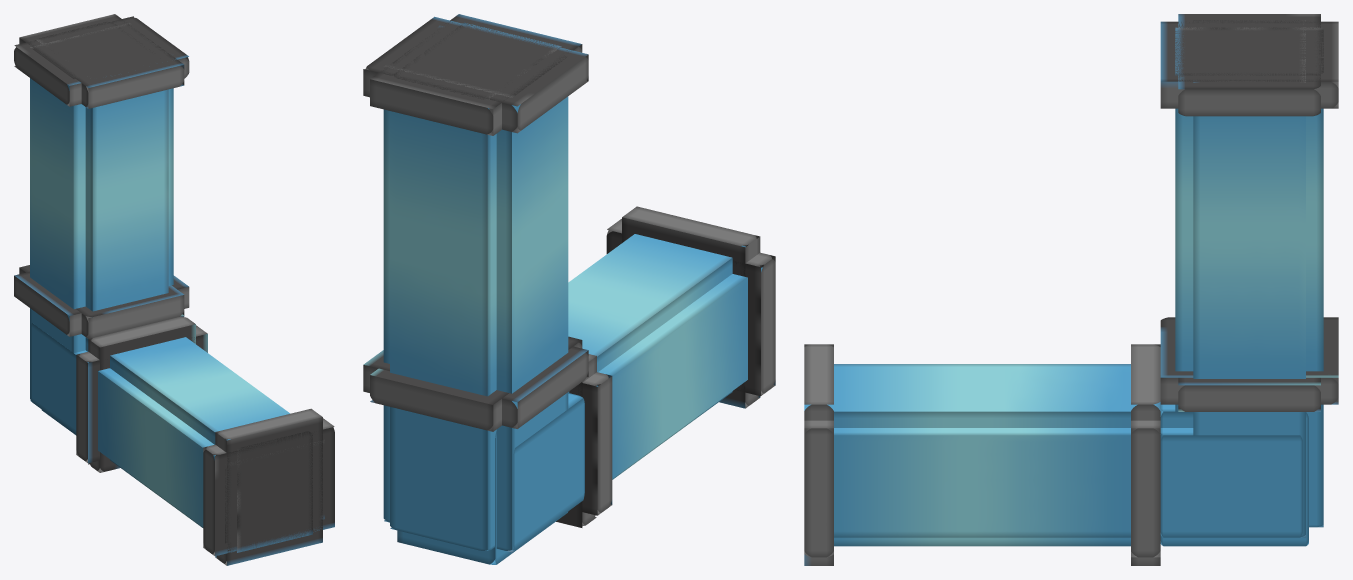
Rendered from Tube_Corner.fbx.
3 views of the same model, side by side, from view 1: azimuth 30°, elevation 25°; view 2: azimuth 150°, elevation 25°; view 3: azimuth 270°, elevation 25° (orthographic). The views are drawn at different scales.
Parts seen in each view (by area): view 1: cube_1, cube_10, cube, cube_11, cube_5, cube_6, cube_7, cube_4, cube_12, cube_3, cube_8, cube_9 (+2 smaller); view 2: cube_1, cube, cube_11, cube_10, cube_14, cube_4, cube_5, cube_12, cube_3, cube_6, cube_7, cube_9 (+4 smaller); view 3: cube, cube_11, cube_10, cube_1, cube_12, cube_4, cube_5, cube_2, cube_9, cube_7, cube_3, cube_13 (+4 smaller).
Part boxes in pixels (left/top/right/bottom): cube_1: left=35, top=22, right=168, bottom=317; cube_10: left=110, top=337, right=312, bottom=552; cube: left=30, top=23, right=173, bottom=320; cube_11: left=87, top=362, right=324, bottom=543; cube_5: left=19, top=14, right=184, bottom=108; cube_6: left=215, top=408, right=322, bottom=565; cube_7: left=203, top=418, right=334, bottom=556; cube_4: left=14, top=16, right=189, bottom=106; cube_12: left=31, top=323, right=87, bottom=434; cube_3: left=19, top=265, right=184, bottom=338; cube_8: left=88, top=316, right=195, bottom=472; cube_9: left=76, top=325, right=207, bottom=463; cube_1: left=390, top=22, right=561, bottom=396; cube: left=383, top=25, right=568, bottom=408; cube_11: left=596, top=267, right=762, bottom=478; cube_10: left=568, top=234, right=745, bottom=479; cube_14: left=390, top=407, right=496, bottom=550; cube_4: left=363, top=16, right=588, bottom=133; cube_5: left=370, top=14, right=582, bottom=135; cube_12: left=513, top=393, right=584, bottom=549; cube_3: left=370, top=336, right=582, bottom=431; cube_6: left=622, top=206, right=760, bottom=408; cube_7: left=606, top=219, right=775, bottom=396; cube_9: left=569, top=372, right=612, bottom=515; cube: left=1193, top=20, right=1305, bottom=378; cube_11: left=834, top=428, right=1130, bottom=537; cube_10: left=804, top=364, right=1160, bottom=546; cube_1: left=1175, top=27, right=1323, bottom=371; cube_12: left=1160, top=409, right=1302, bottom=537; cube_4: left=1178, top=14, right=1320, bottom=116; cube_5: left=1160, top=21, right=1338, bottom=108; cube_2: left=1178, top=377, right=1320, bottom=411; cube_9: left=1131, top=420, right=1160, bottom=557; cube_7: left=804, top=420, right=833, bottom=557; cube_3: left=1160, top=317, right=1338, bottom=404; cube_13: left=1193, top=412, right=1305, bottom=537.
Bounding box in the file's own units: 18.75 × 56.25 × 56.25.
1 material, 1 textured.
